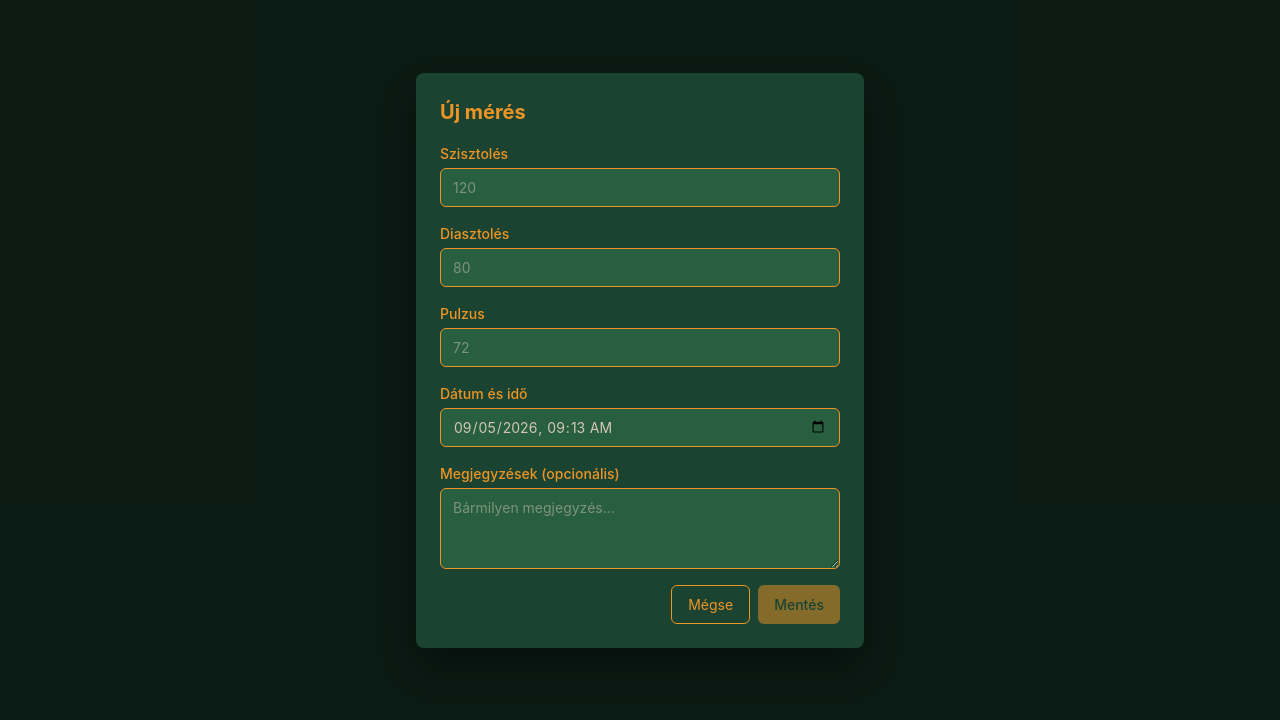
Scenario: ReadingDialog › new reading mode › Save is disabled until all three numeric fields are filled
The width and height of the screenshot is (1280, 720).
Expected: the button "Mentés" is disabled, left=758, top=584, right=840, bottom=624
Type "130" into the number field labelled "Szisztolés" at (640, 187), box left=440, top=168, right=840, bottom=206
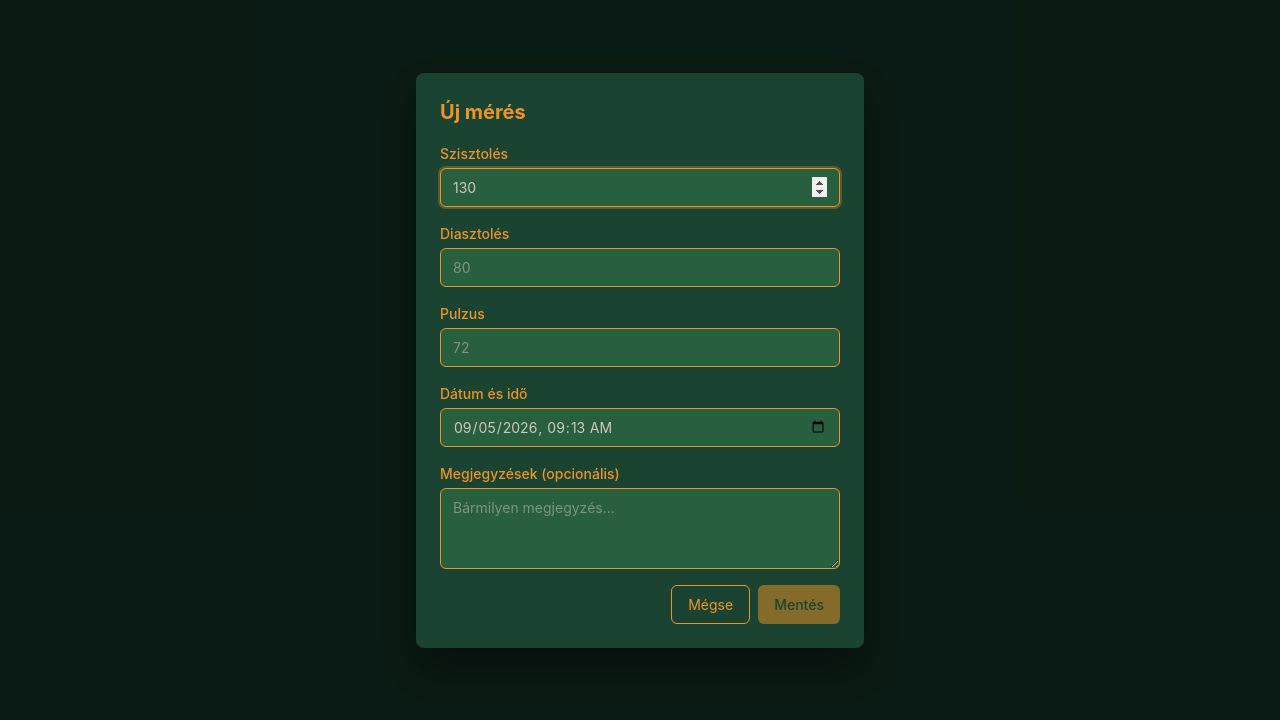
Expected: the button "Mentés" is disabled, left=758, top=584, right=840, bottom=624
Type "85" into the number field labelled "Diasztolés" at (640, 267), box left=440, top=248, right=840, bottom=286
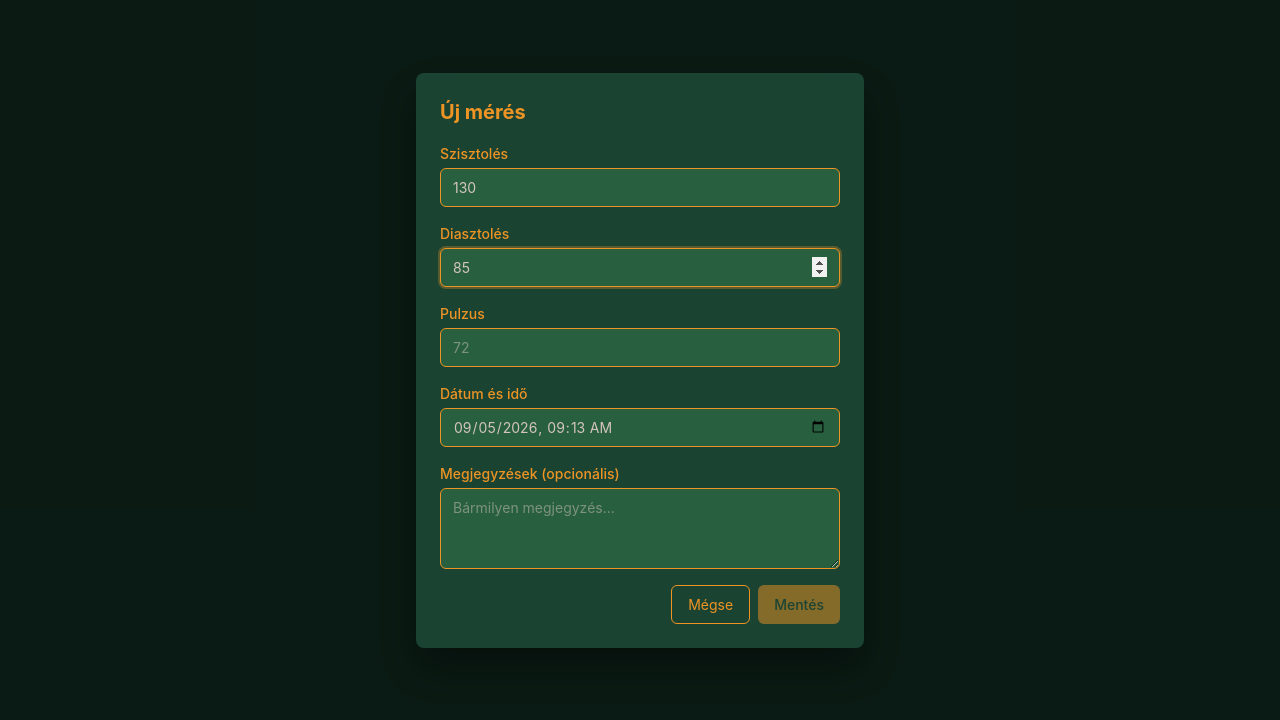
Expected: the button "Mentés" is disabled, left=758, top=584, right=840, bottom=624
Type "75" into the number field labelled "Pulzus" at (640, 347), box left=440, top=328, right=840, bottom=366
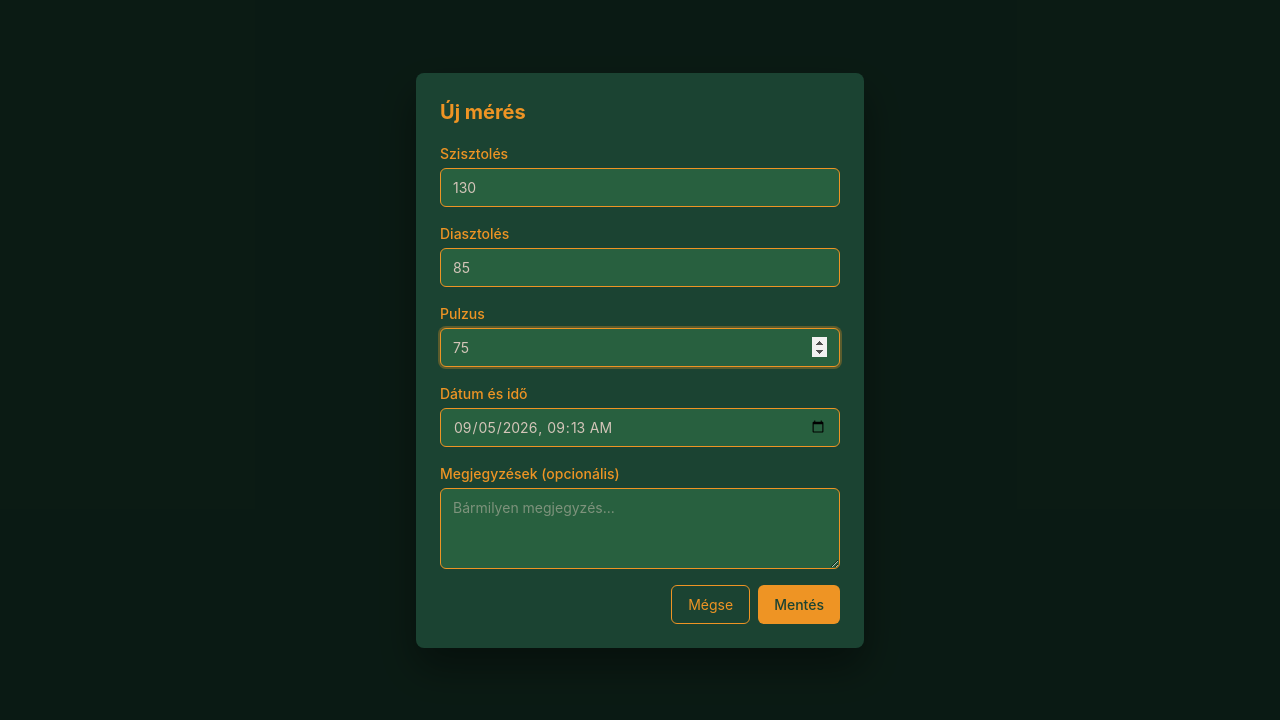
Expected: the button "Mentés" is enabled, left=758, top=584, right=840, bottom=624
